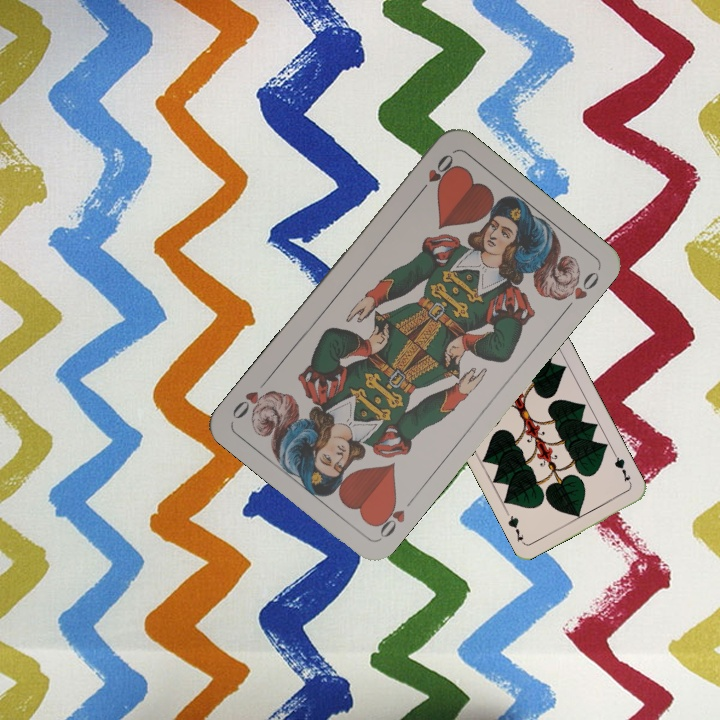G7: (610, 450, 634, 488)
HO: (413, 150, 457, 199), (370, 494, 408, 541)
